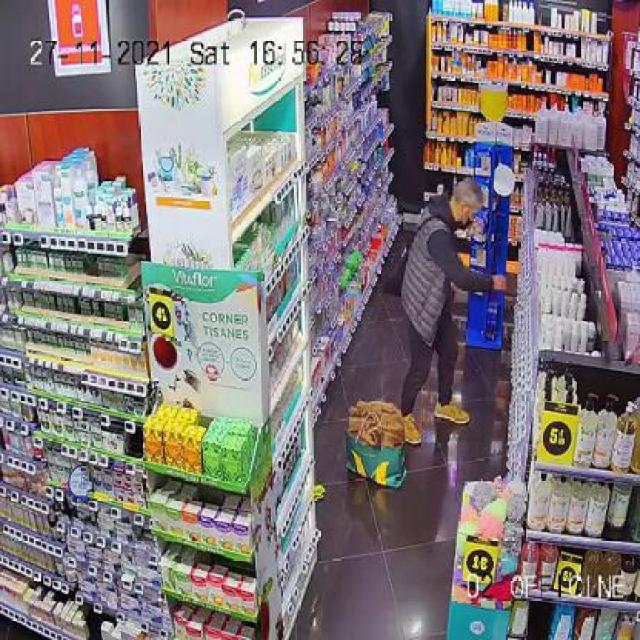Shoplifting: (380, 150, 504, 450)
